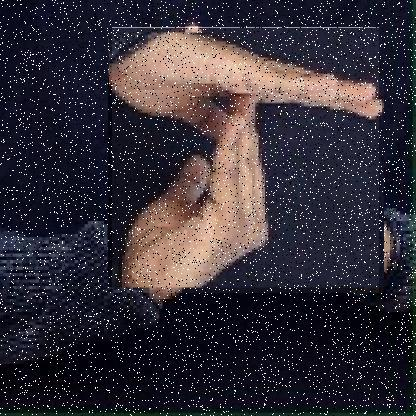Z: (112, 27, 380, 294)
